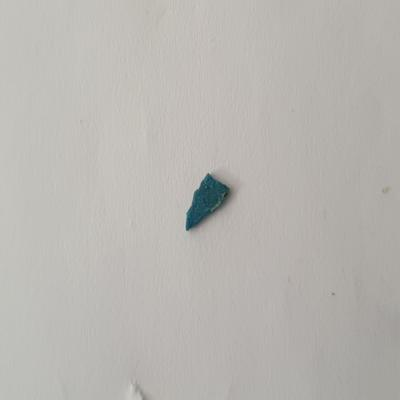plastic: (182, 171, 234, 239)
